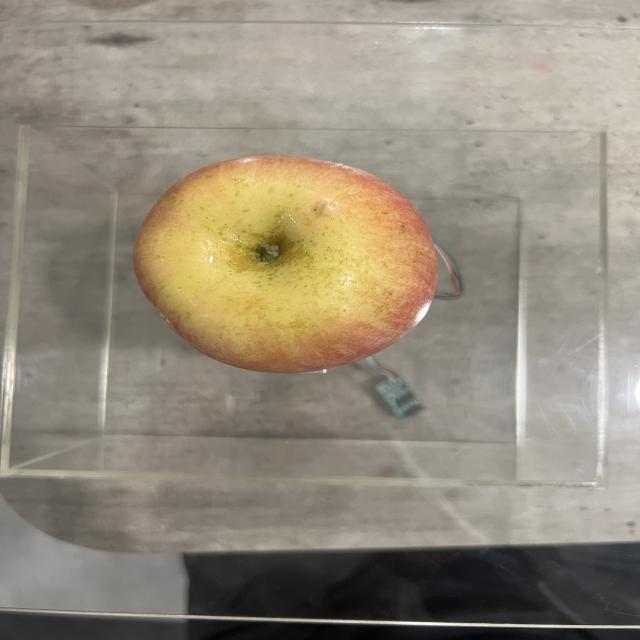red apple: (136, 153, 436, 369)
